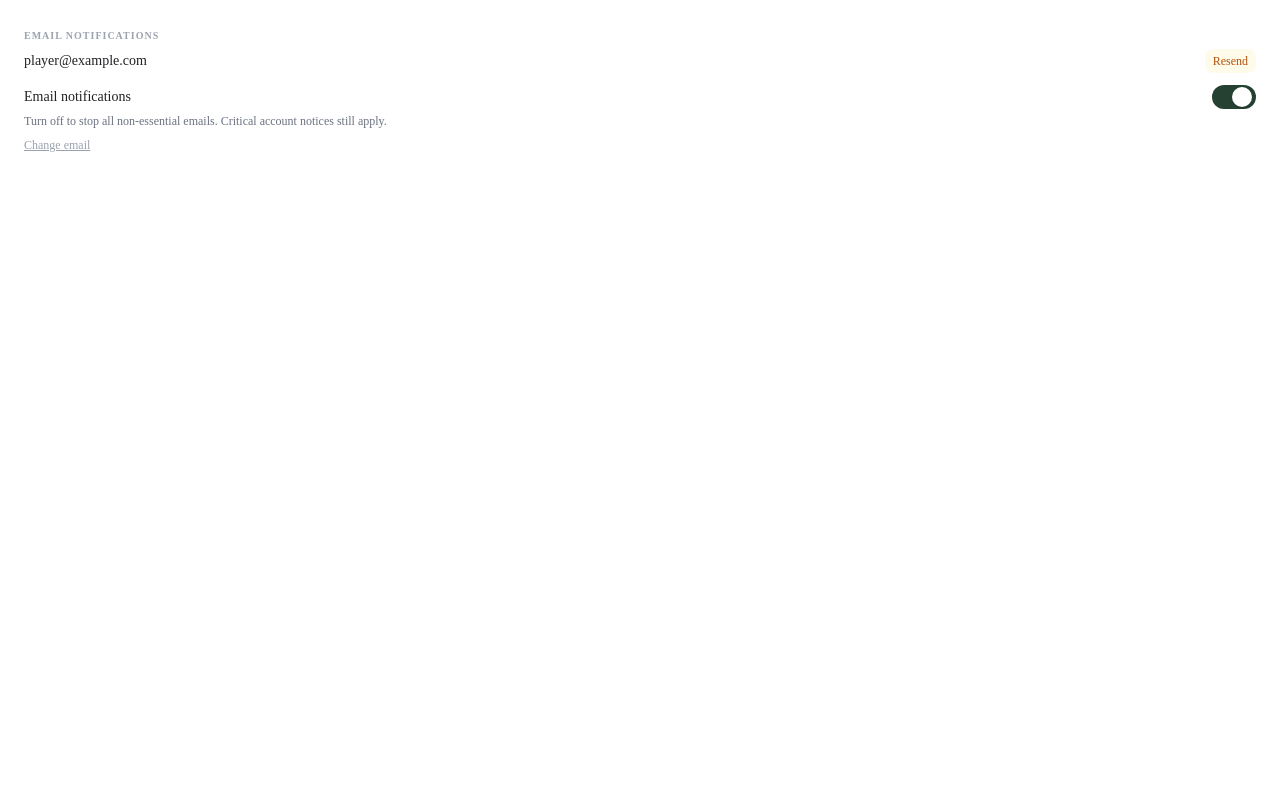
it: EmailSection (P1-41, owner session 2026-09-06) › offers resend verification for an unverified address and confirms the send
The image size is (1280, 800).
Step 1. Click the button "Resend" → [1230, 61], box [1205,49,1256,73]
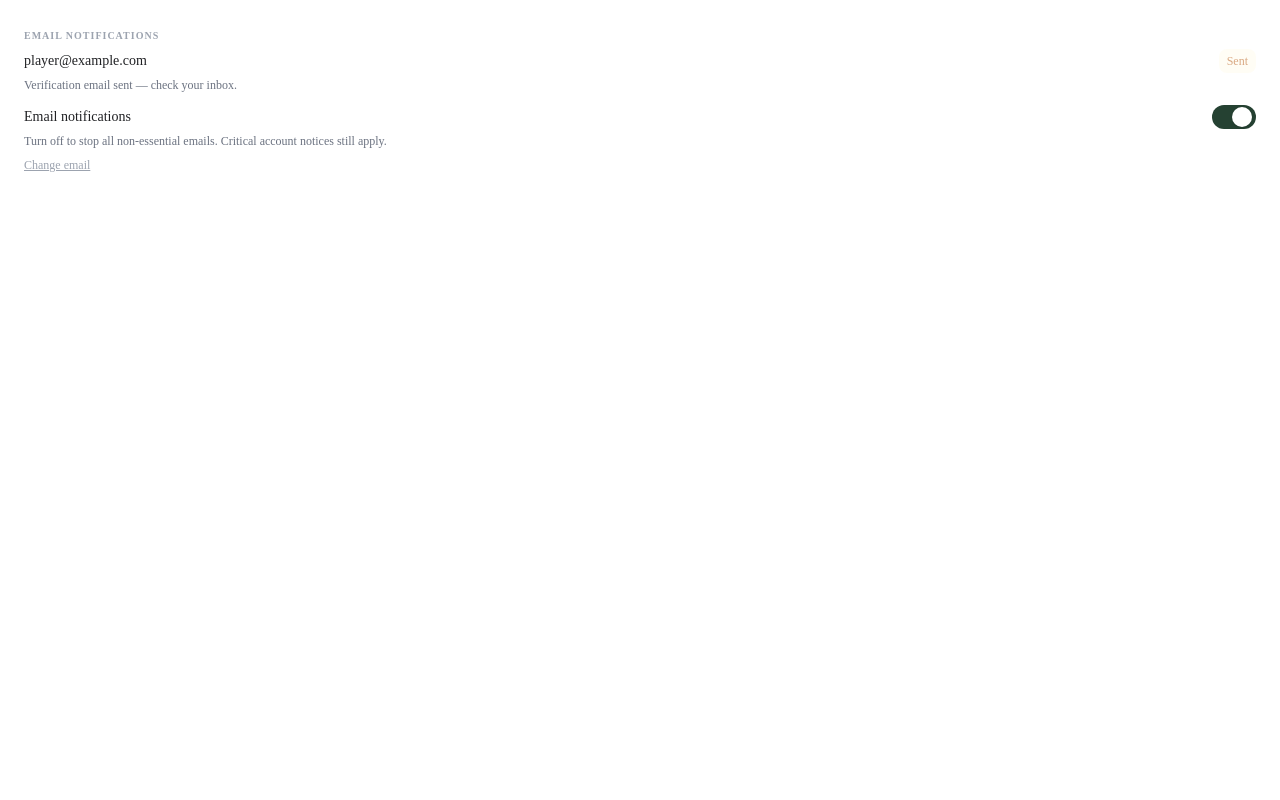
Expected: the text "Verification email sent — check your inbox." is shown, [24,78,237,92]
